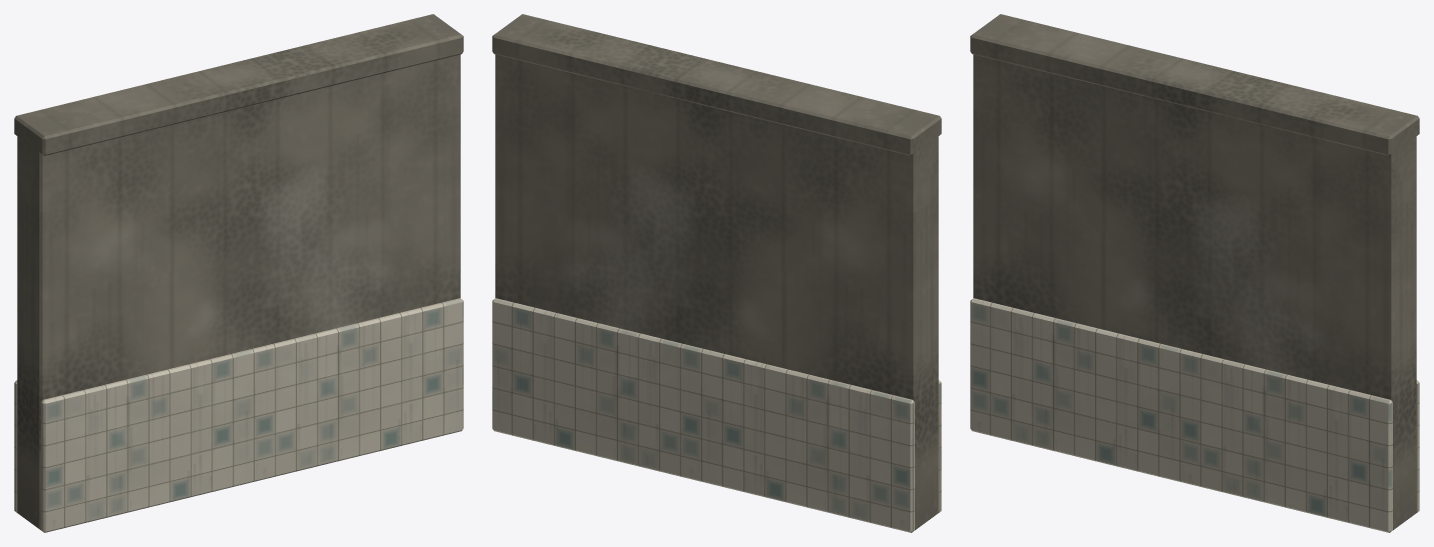
The model's file is WK_WALL_STANDARD_A_01.glb.
3 views of the same model, side by side, from view 1: azimuth 30°, elevation 25°; view 2: azimuth 150°, elevation 25°; view 3: azimuth 330°, elevation 25° (orthographic).
Visible parts, largest first — view 1: WK_WALL_STANDARD_A_01; view 2: WK_WALL_STANDARD_A_01; view 3: WK_WALL_STANDARD_A_01.
Boxes of the visible parts, box(x1,y1,x2,y2) form: WK_WALL_STANDARD_A_01: box(14, 14, 463, 532); WK_WALL_STANDARD_A_01: box(492, 14, 941, 532); WK_WALL_STANDARD_A_01: box(970, 14, 1419, 532).
Bounding box in the file's own units: 4 × 3.6 × 0.5.
Materials: 2 (2 with a texture image).
